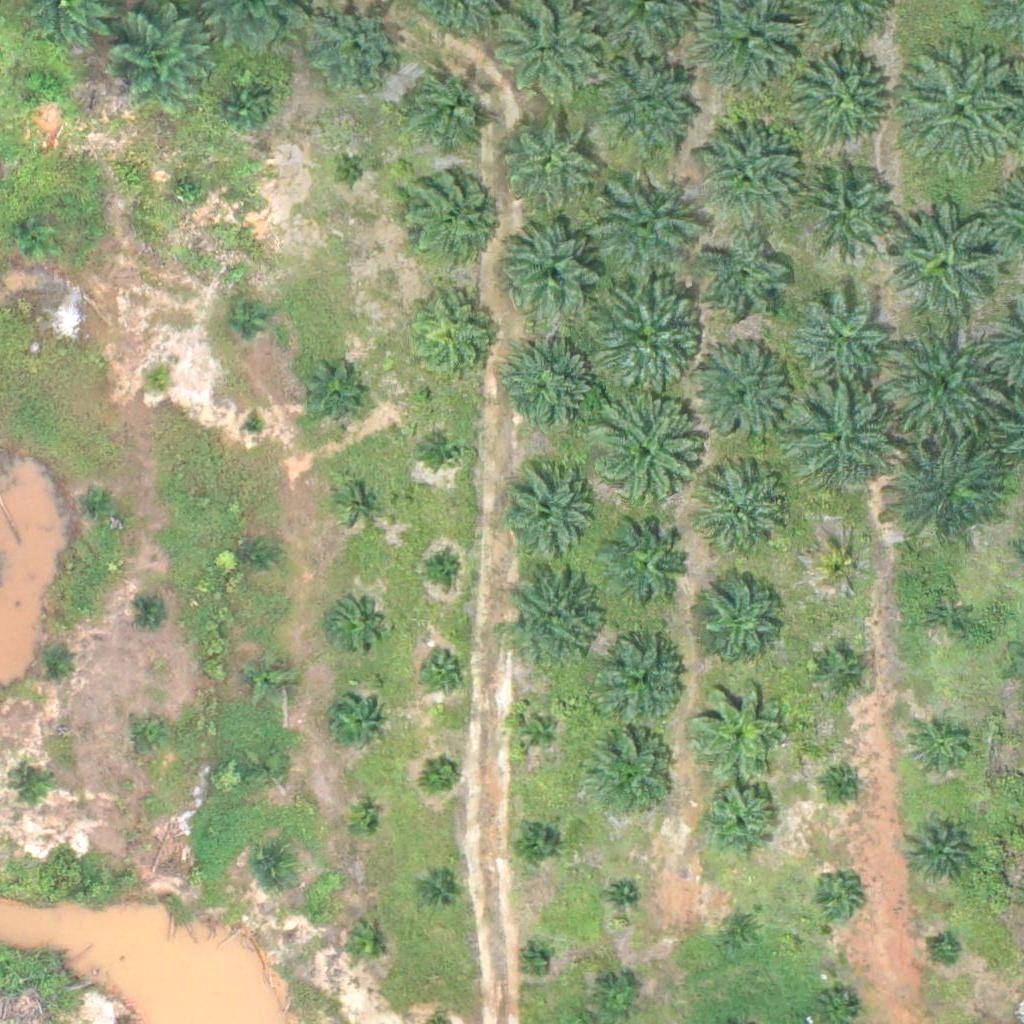Kelapa_Sawit: (895, 47, 1020, 173), (880, 317, 1005, 443), (888, 428, 1013, 554), (581, 275, 706, 400), (581, 394, 706, 519), (788, 386, 901, 499), (693, 121, 806, 234), (590, 52, 703, 165), (587, 170, 700, 283), (890, 198, 1002, 312), (792, 287, 892, 388), (696, 233, 796, 334), (691, 342, 791, 443), (494, 103, 594, 204), (505, 220, 605, 321), (502, 339, 602, 440), (499, 467, 599, 568), (397, 58, 497, 159), (399, 164, 499, 265), (404, 285, 504, 386), (110, 12, 210, 113), (689, 677, 789, 778), (507, 569, 607, 670), (789, 49, 889, 149), (798, 157, 898, 257), (702, 471, 790, 560), (696, 778, 784, 866), (587, 727, 675, 815), (599, 635, 687, 723), (606, 522, 694, 610), (312, 3, 399, 92), (696, 567, 783, 655), (902, 814, 977, 890), (299, 366, 362, 429), (910, 716, 972, 779), (326, 693, 388, 756), (914, 586, 976, 649), (218, 80, 268, 131), (329, 596, 379, 647), (342, 920, 392, 971), (245, 653, 295, 704), (817, 645, 867, 695), (811, 874, 861, 924), (718, 906, 768, 956), (510, 816, 560, 866), (818, 545, 868, 595), (513, 707, 563, 757), (418, 643, 468, 693), (235, 538, 273, 576), (27, 66, 65, 104), (18, 217, 56, 255), (170, 173, 208, 211), (332, 154, 370, 192), (138, 363, 176, 401), (429, 432, 467, 470), (345, 805, 383, 842), (423, 549, 460, 587), (341, 482, 378, 520), (135, 593, 173, 630), (11, 768, 48, 806), (252, 751, 290, 788), (425, 753, 462, 791), (222, 302, 259, 340), (421, 877, 458, 914), (253, 849, 290, 886), (33, 641, 70, 678), (130, 719, 167, 756), (81, 484, 118, 521), (931, 937, 956, 963), (522, 947, 547, 972), (832, 773, 857, 798), (241, 412, 266, 437), (610, 883, 634, 908)
